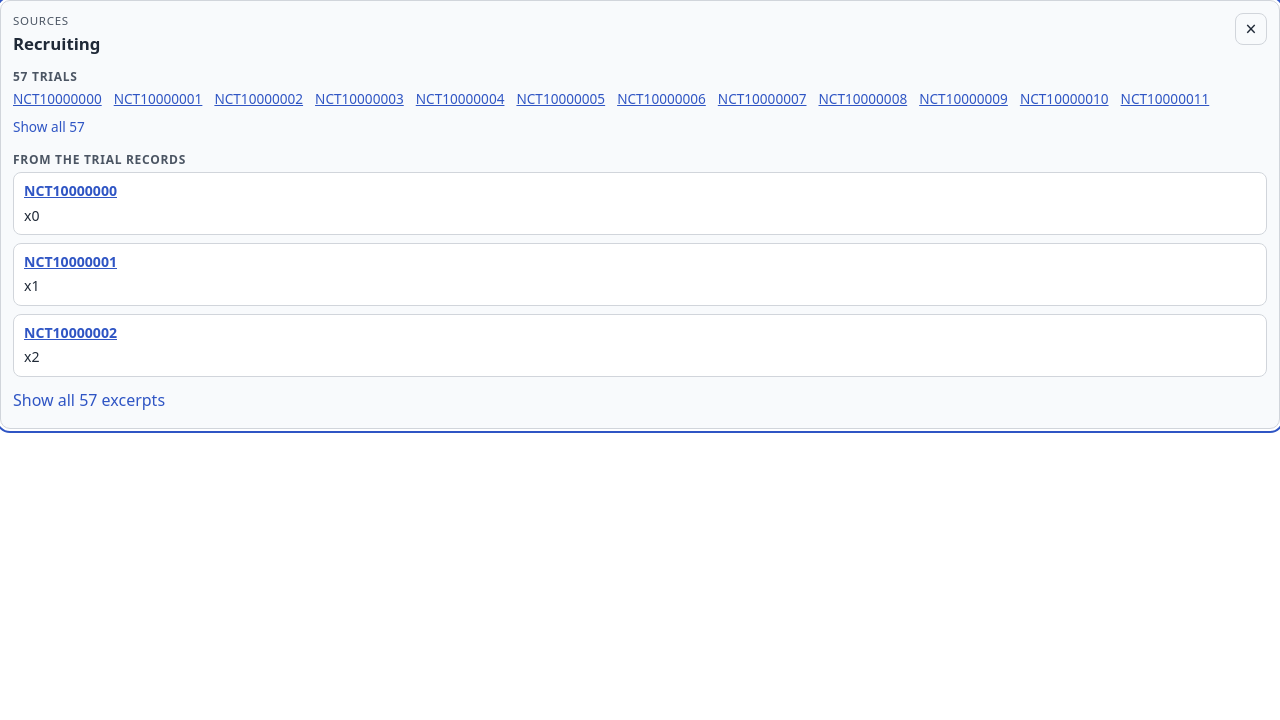
Test: datum panel: nct_ids and query_url › "Show all" fetches the complete trial list when only the first ids came inline (one request fills both)
The width and height of the screenshot is (1280, 720).
Expected: the text "57 trials" is shown, x1=13 y1=68 x2=78 y2=85
Click the button "Show all 57" at (49, 127), box x1=13 y1=113 x2=85 y2=141
(page scrolled)
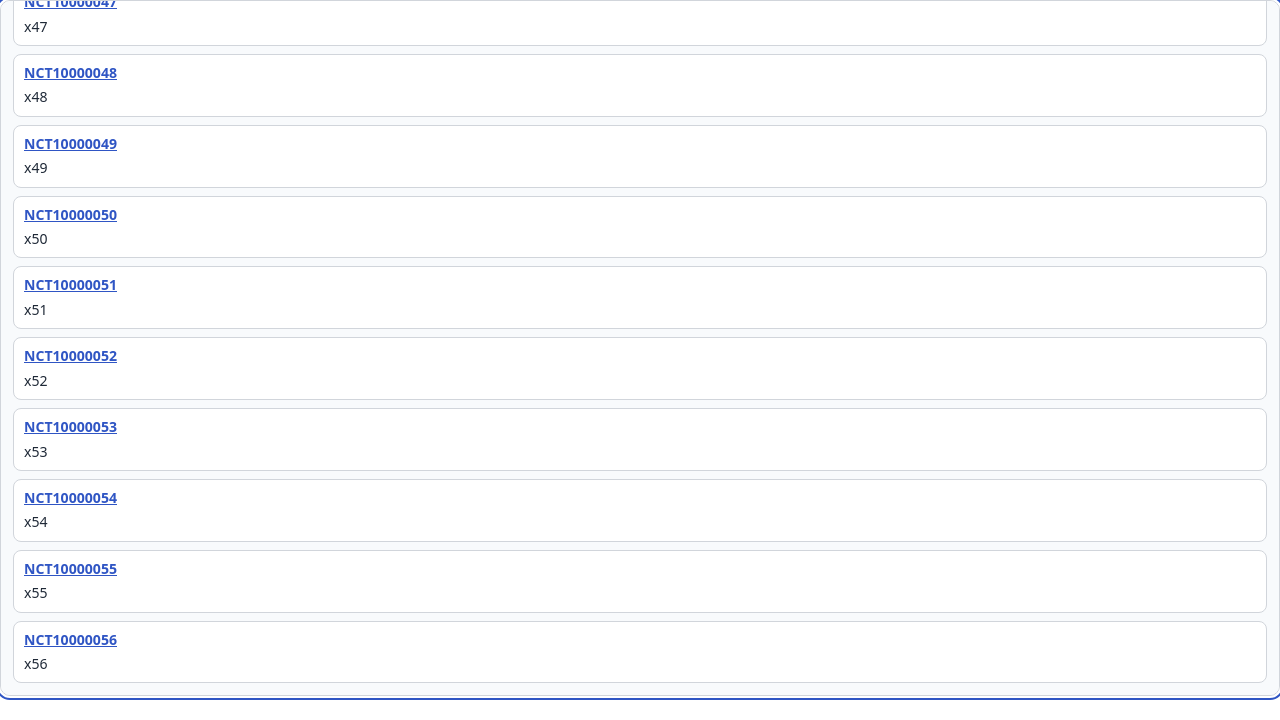
Now the text "x56" is shown, box x1=24 y1=654 x2=48 y2=673
Now the button "excerpts" is gone
